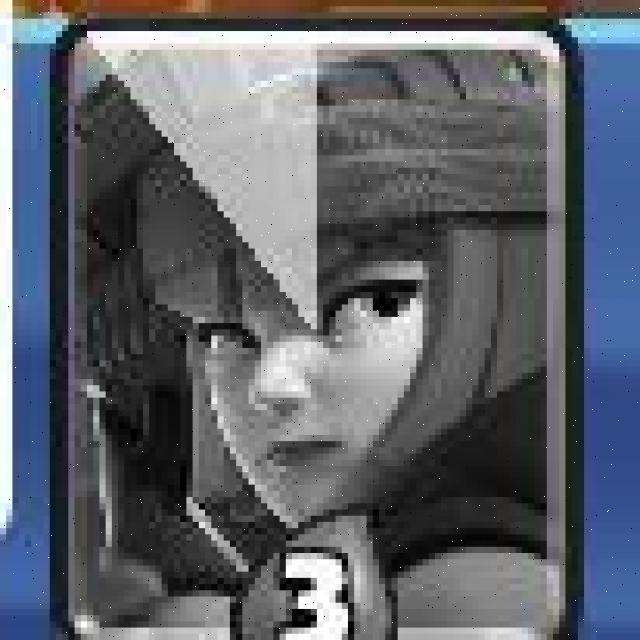Firecracker: (52, 23, 580, 640)
